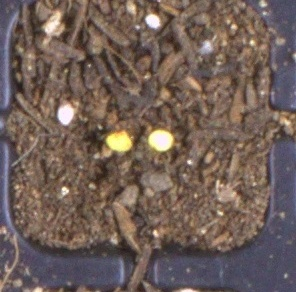chilli seed: (105, 130, 133, 153), (148, 129, 174, 152)
